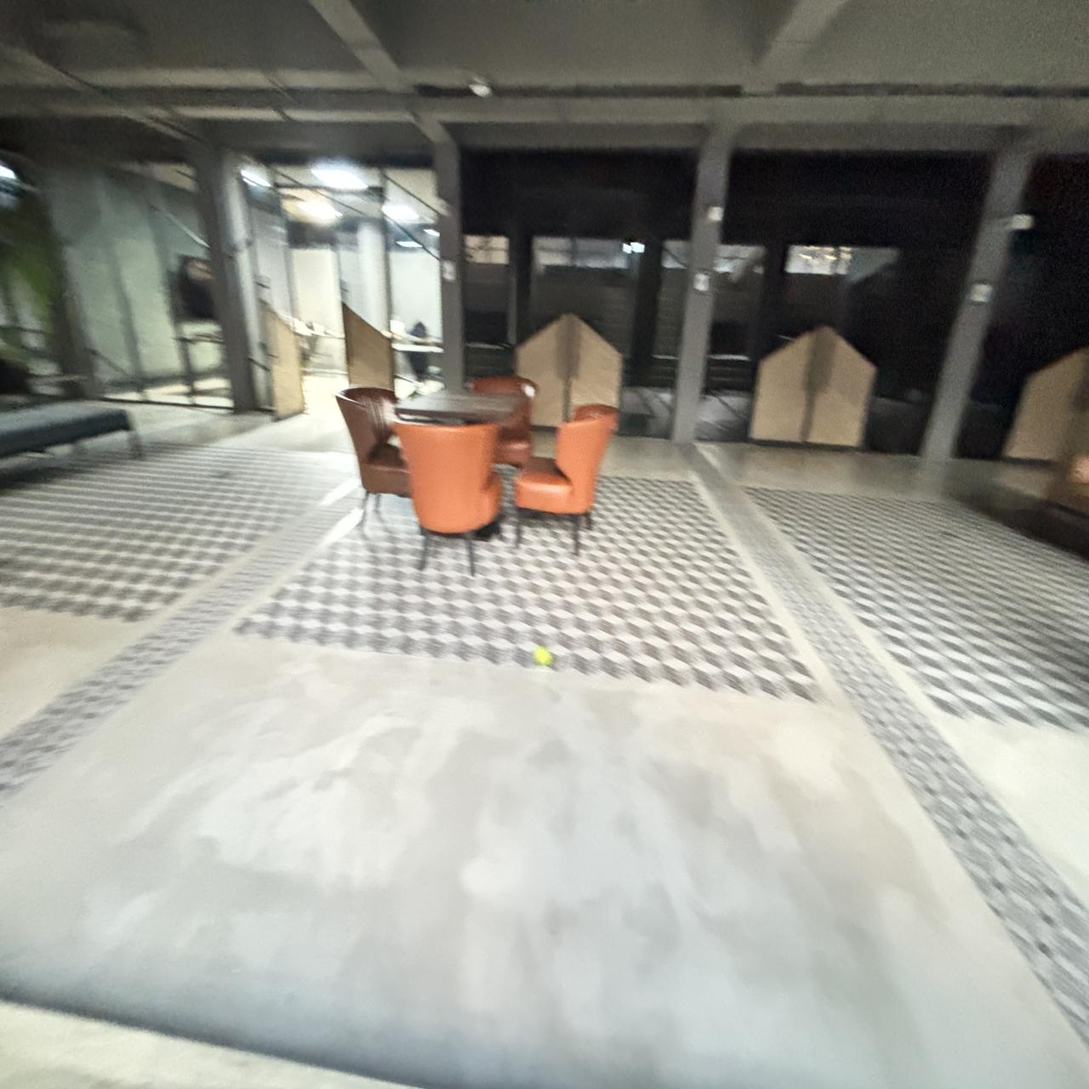tennisball: (535, 645, 552, 667)
